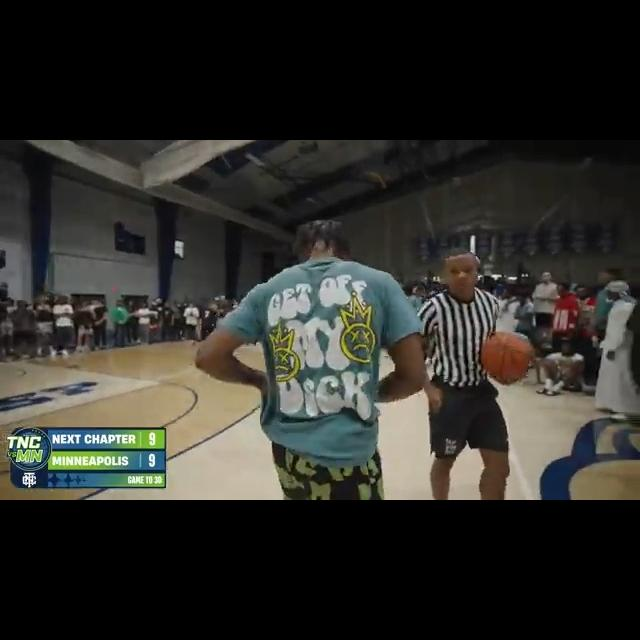basketball: (476, 328, 533, 385)
